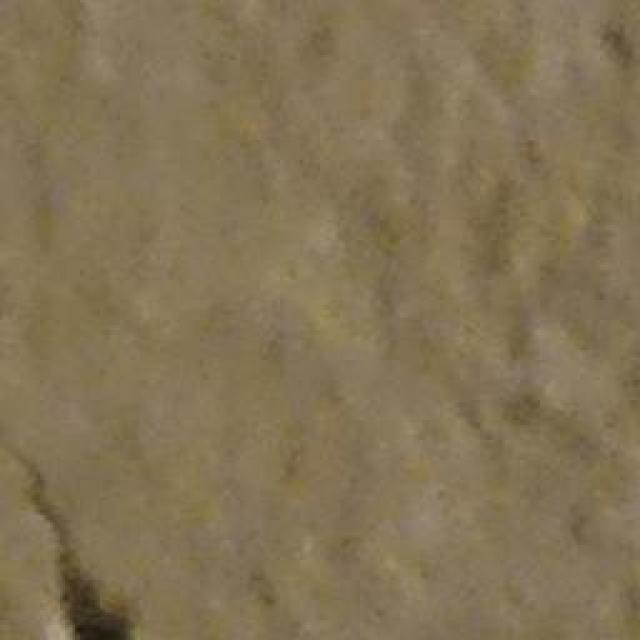Diagonal: (0, 410, 156, 640)
